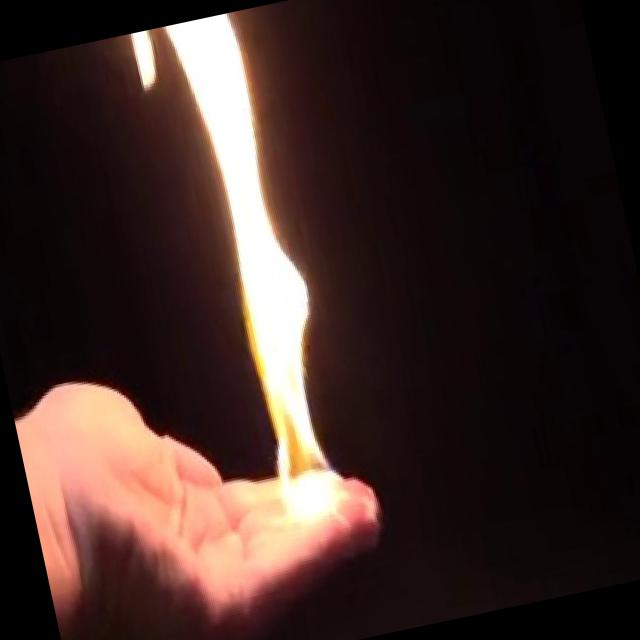Fire: (152, 6, 368, 543)
